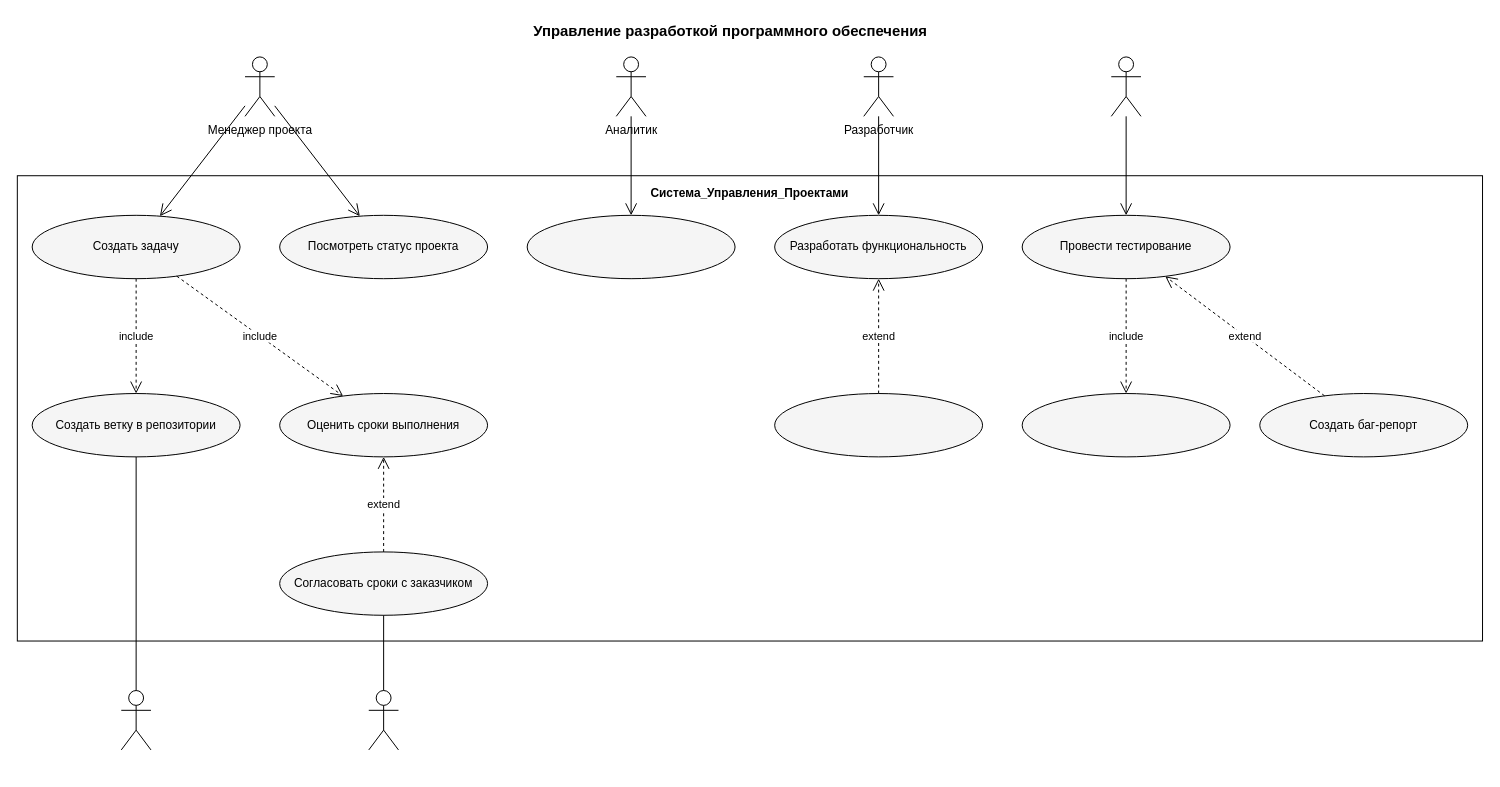
The diagram is 1500 pixels wide and 787 high, and some of its shapes have lost their labels. Here are the shapes that lost their labels. From the top down, the box of each, then its label:
(1110, 56, 1141, 116): Тестировщик
(526, 214, 735, 279): Составить техническое задание
(774, 393, 983, 457): Сообщить о блокирующей проблеме
(1021, 393, 1230, 457): Оформить отчёт о тестировании
(120, 690, 151, 750): Сервис_Git
(368, 690, 398, 750): Заказчик
